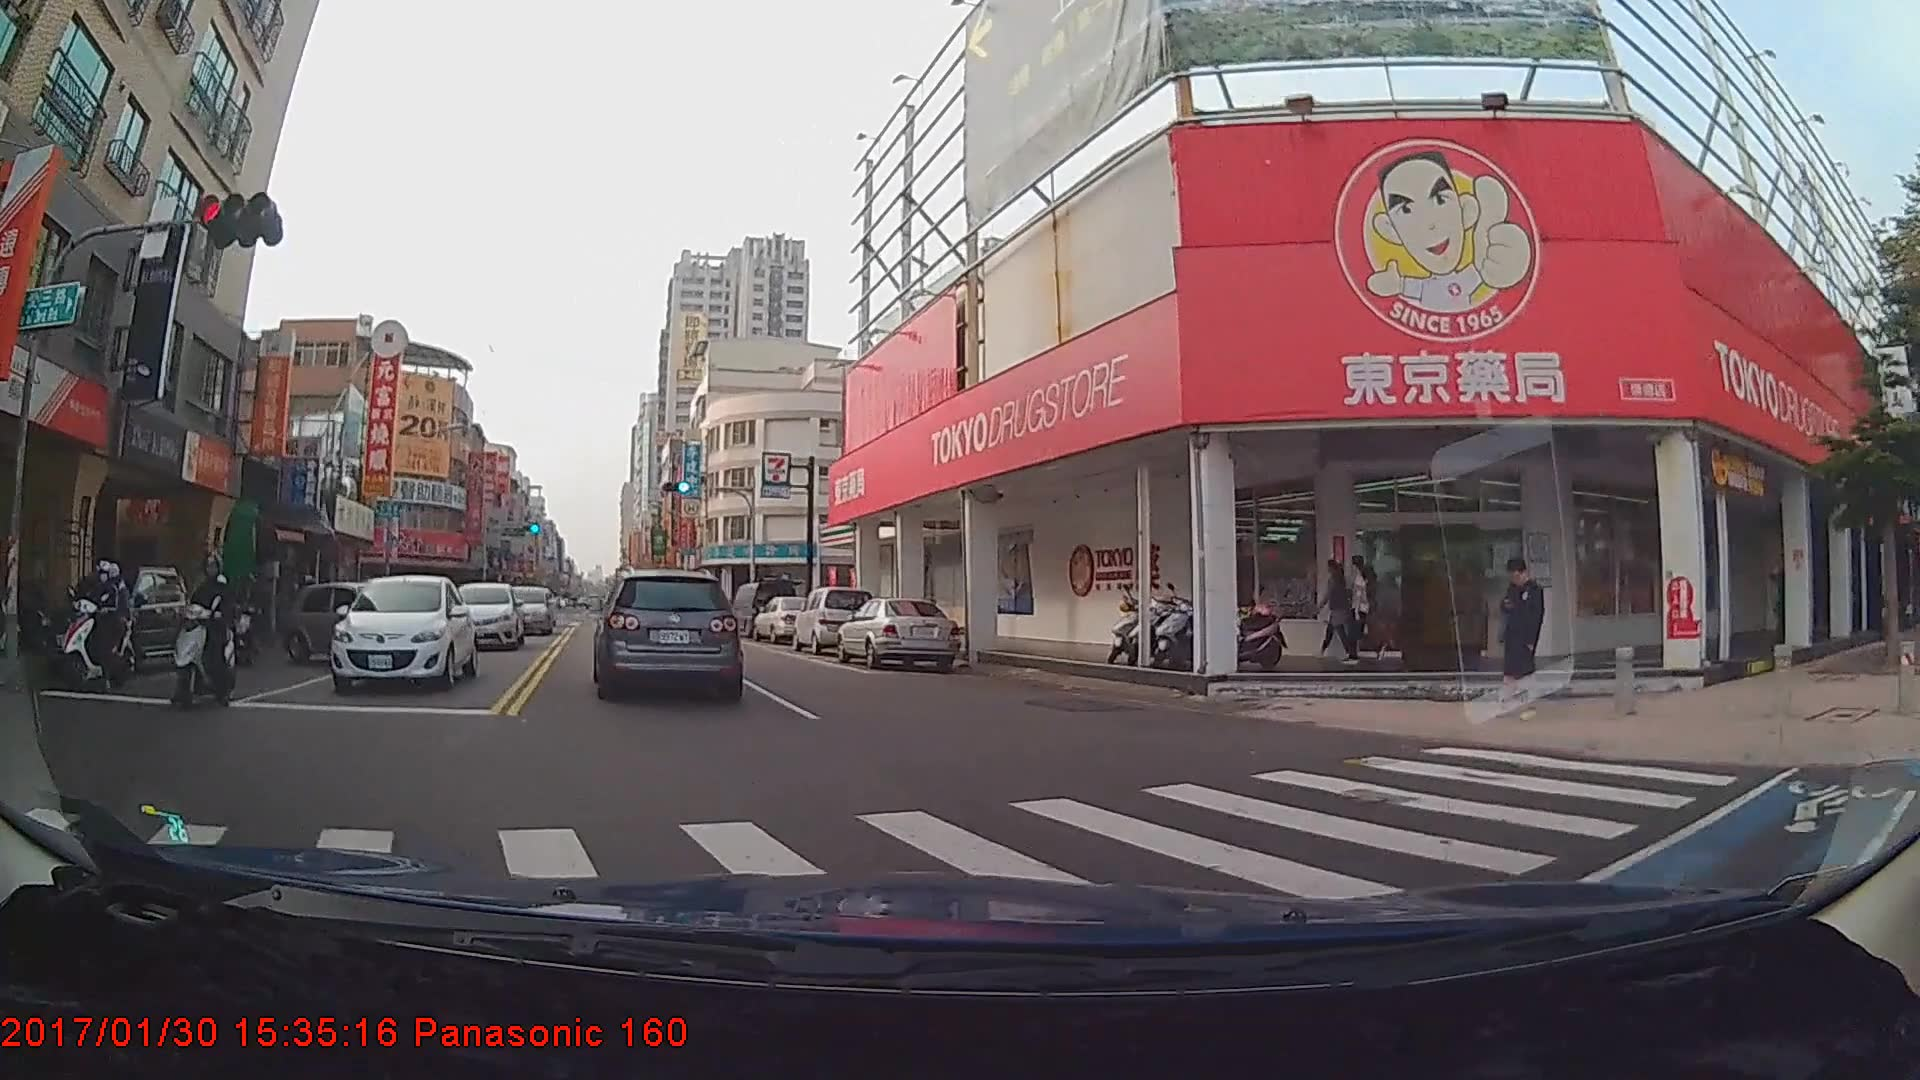pedestrian: (1493, 555, 1552, 722), (1315, 555, 1364, 665), (1348, 552, 1377, 662)
rider: (45, 559, 151, 693), (164, 551, 246, 713)
vehicle: (595, 572, 739, 701), (38, 561, 193, 675), (328, 572, 477, 691), (279, 577, 422, 664), (834, 595, 960, 671), (445, 581, 524, 650), (796, 588, 874, 656), (751, 594, 834, 642), (730, 581, 797, 638), (502, 585, 553, 636)
